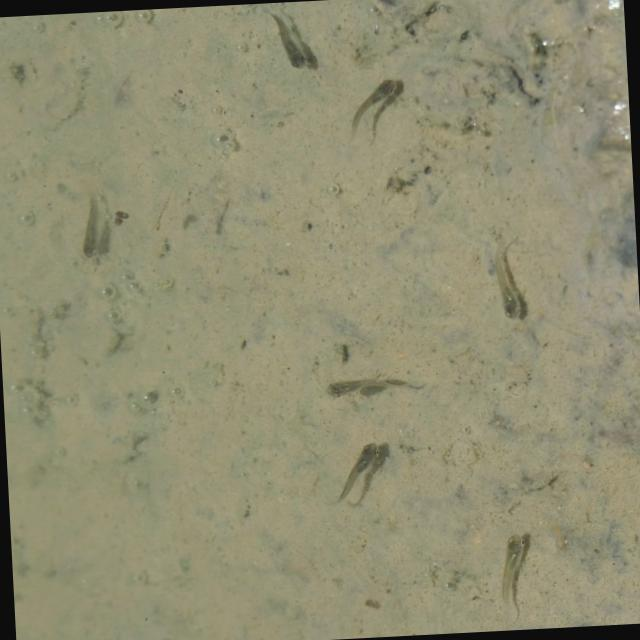Sivrisinek Baligi: (478, 242, 534, 326), (490, 531, 539, 623), (325, 440, 392, 507), (68, 181, 116, 266), (342, 76, 404, 140), (322, 362, 417, 402), (266, 8, 313, 74)
